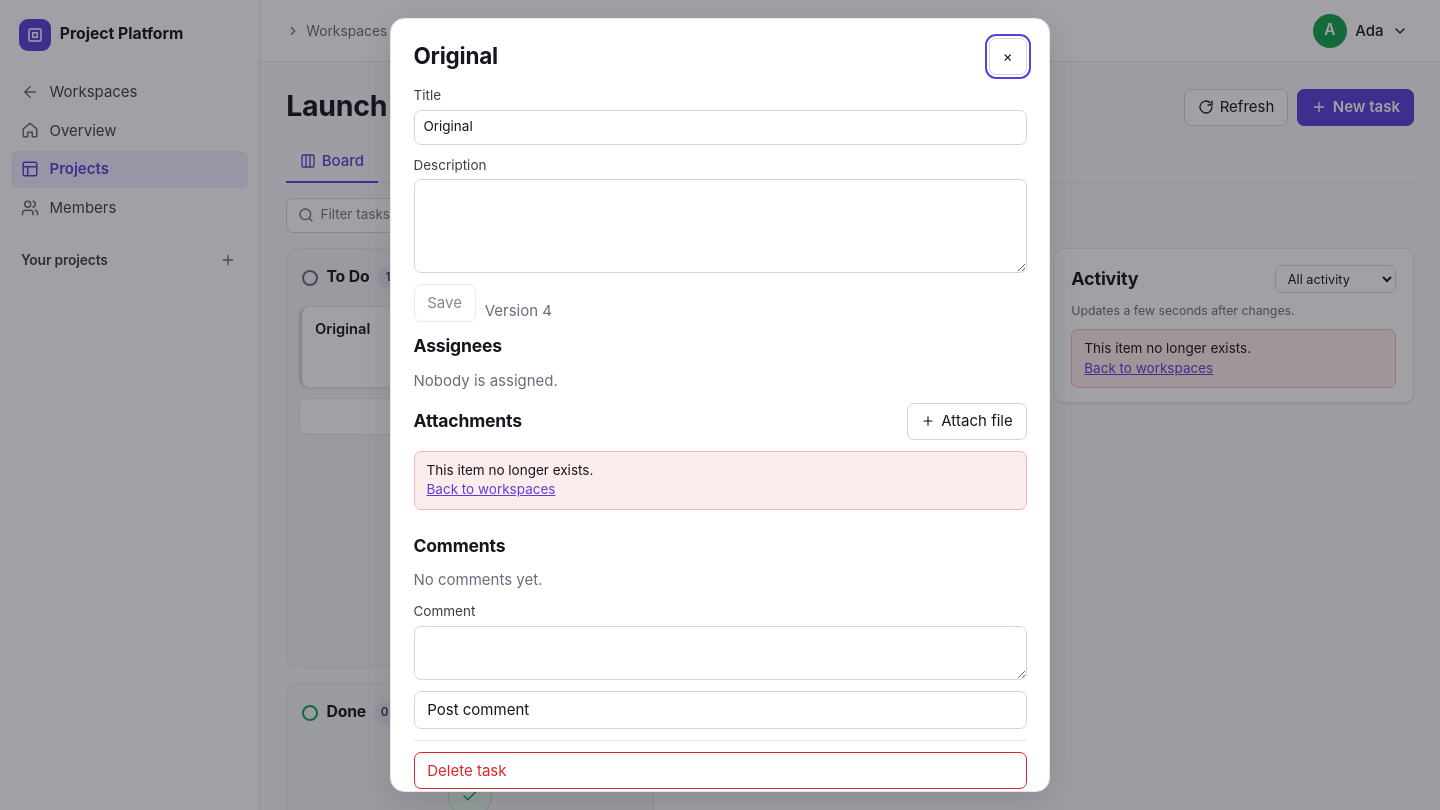
Test: stale edit (409 VERSION_CONFLICT) › saves normally when nobody else changed the task
The image size is (1440, 810).
Replace the text in the field labelled "Title" with "A title" at [720, 127], box [414,110,1026,145]
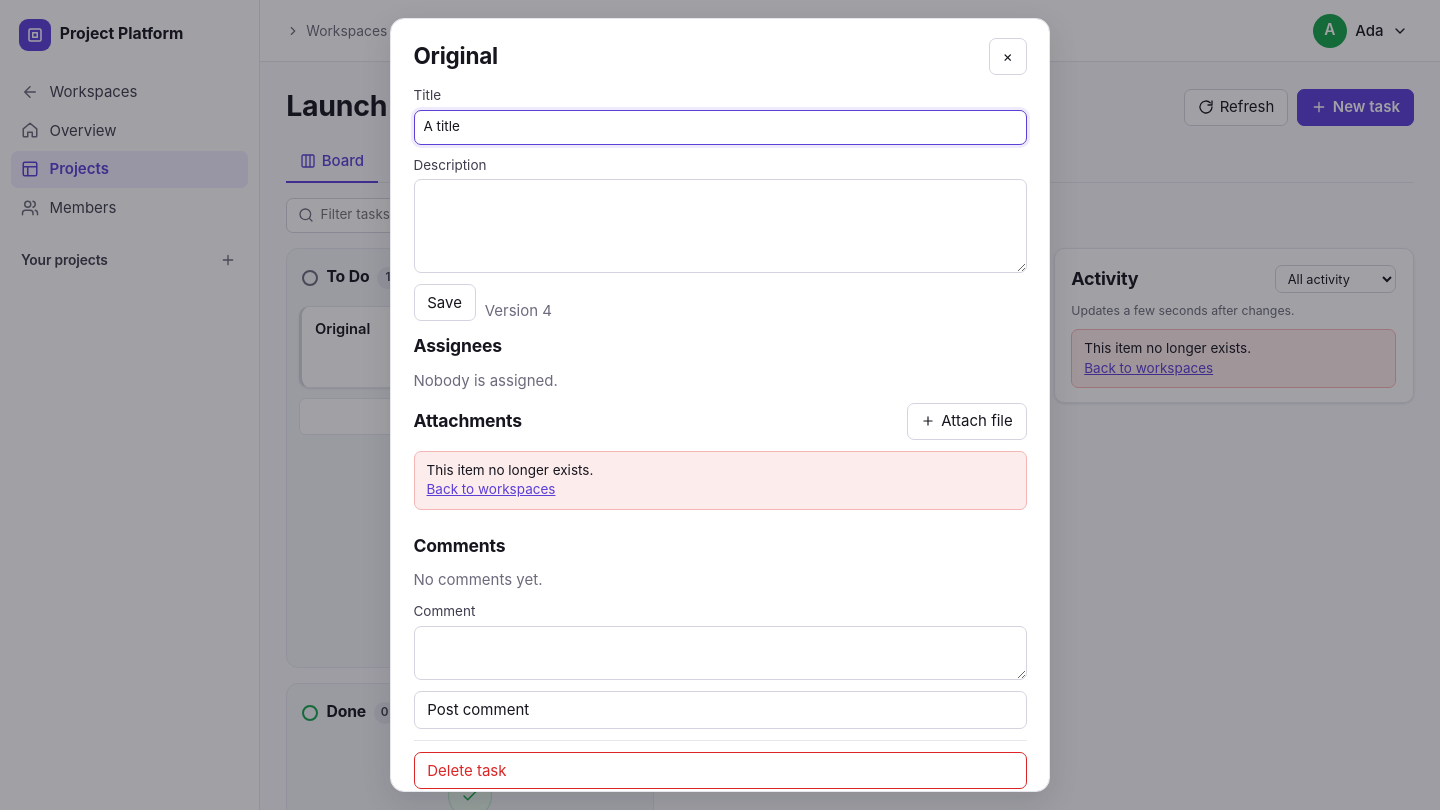
Click the button "Save".
click(445, 303)  # box [414,284,476,322]
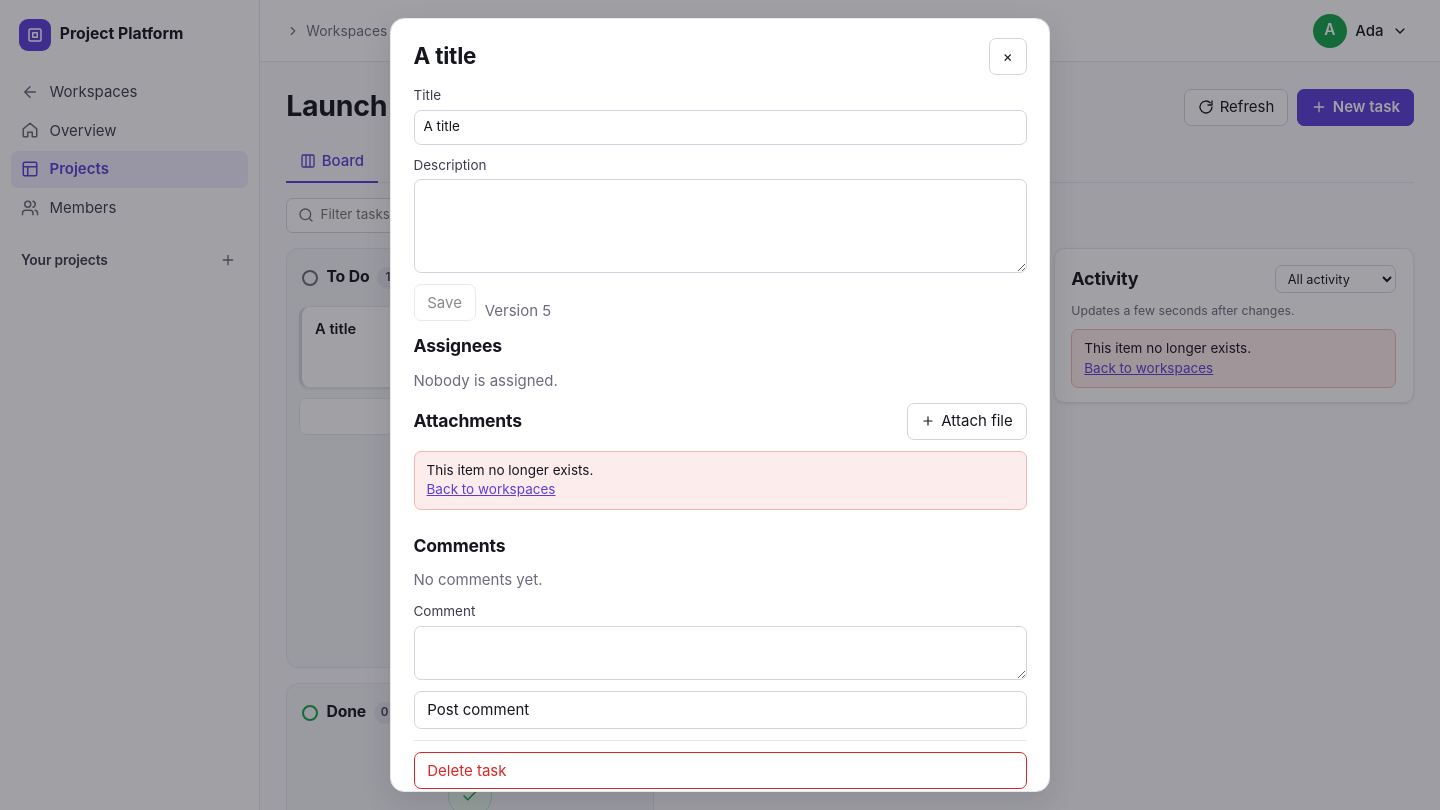
Expected: the text "Version 5" is shown, [485,300,551,322]
